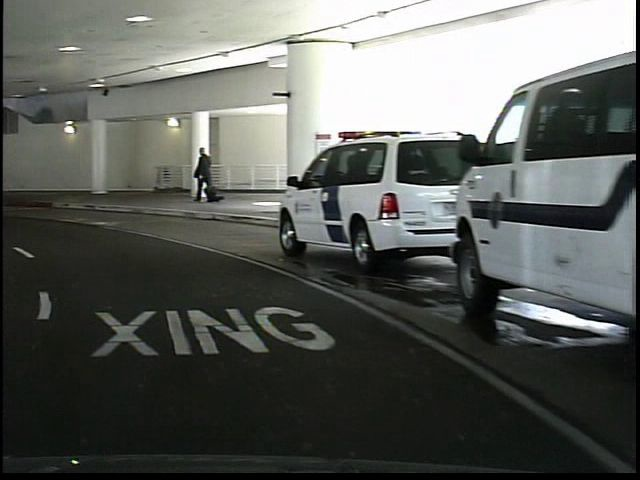person: (188, 144, 213, 204)
